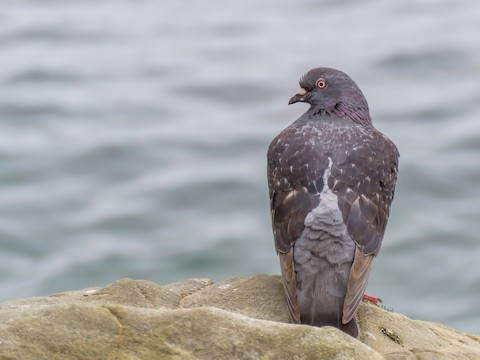pigeon: (260, 59, 406, 343)
